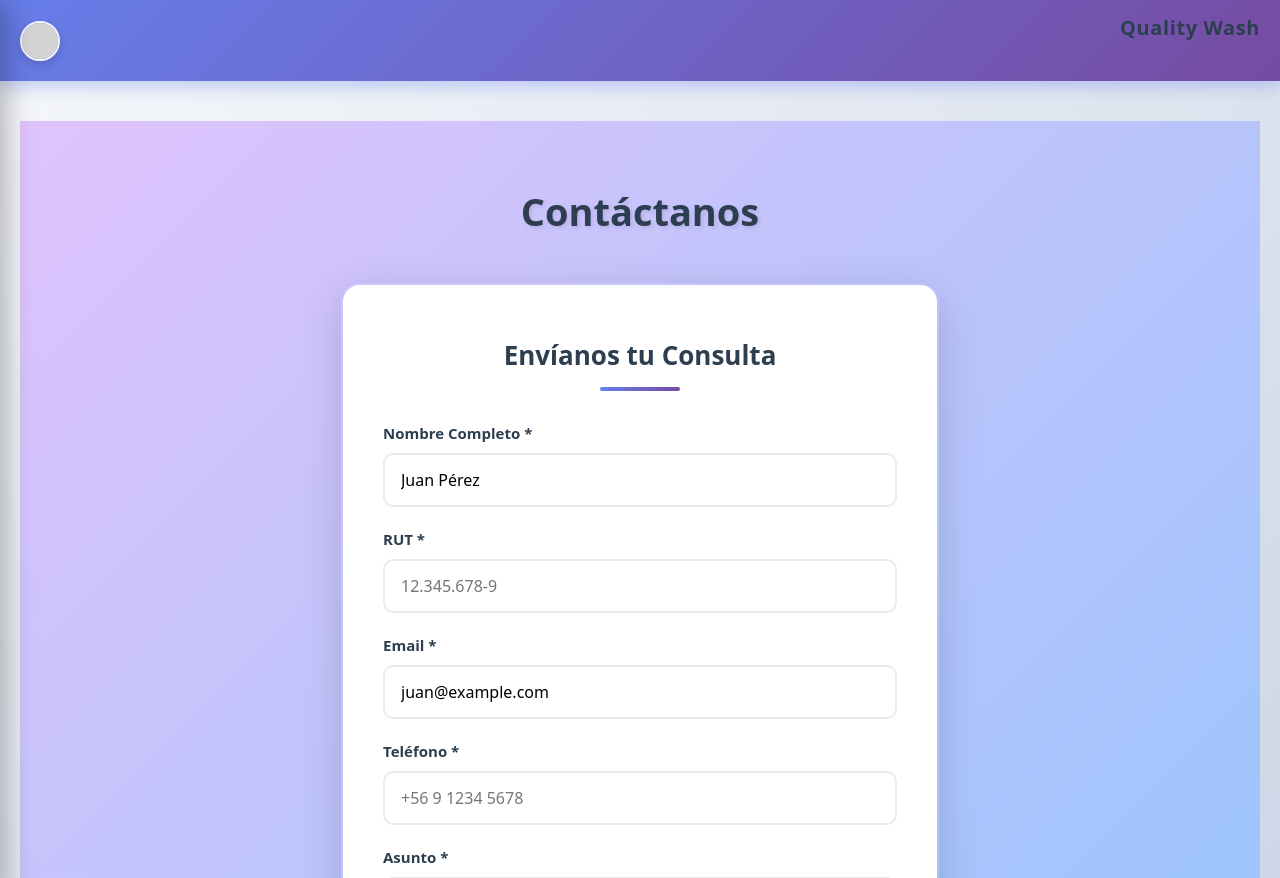
Contacto Component › Validación de campos vacíos › muestra error cuando el nombre está vacío
Clear the field labelled "Nombre Completo *" at (640, 480), box x1=383 y1=453 x2=897 y2=507
(page scrolled)
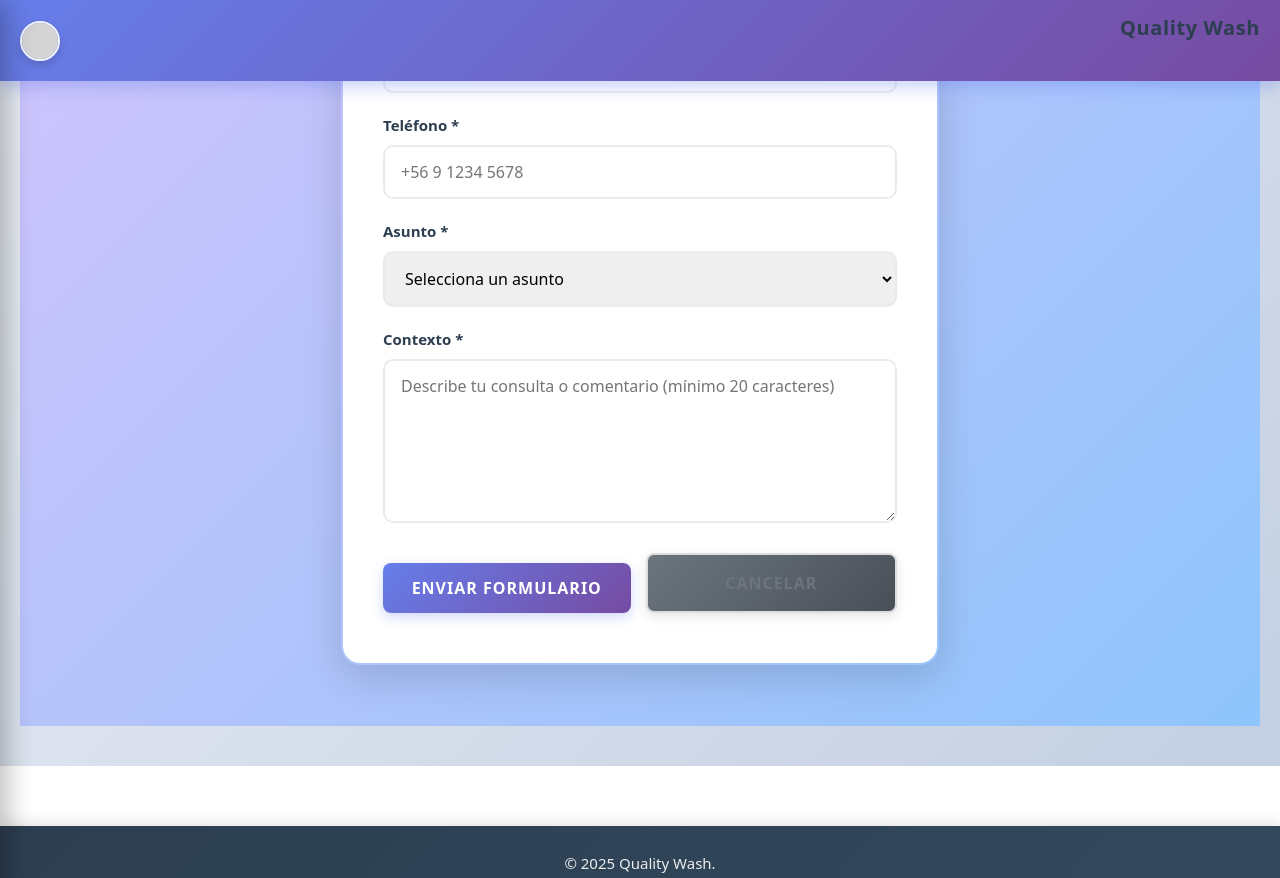
Click the button "Enviar Formulario" at (507, 588), box x1=383 y1=563 x2=630 y2=613
(page scrolled)
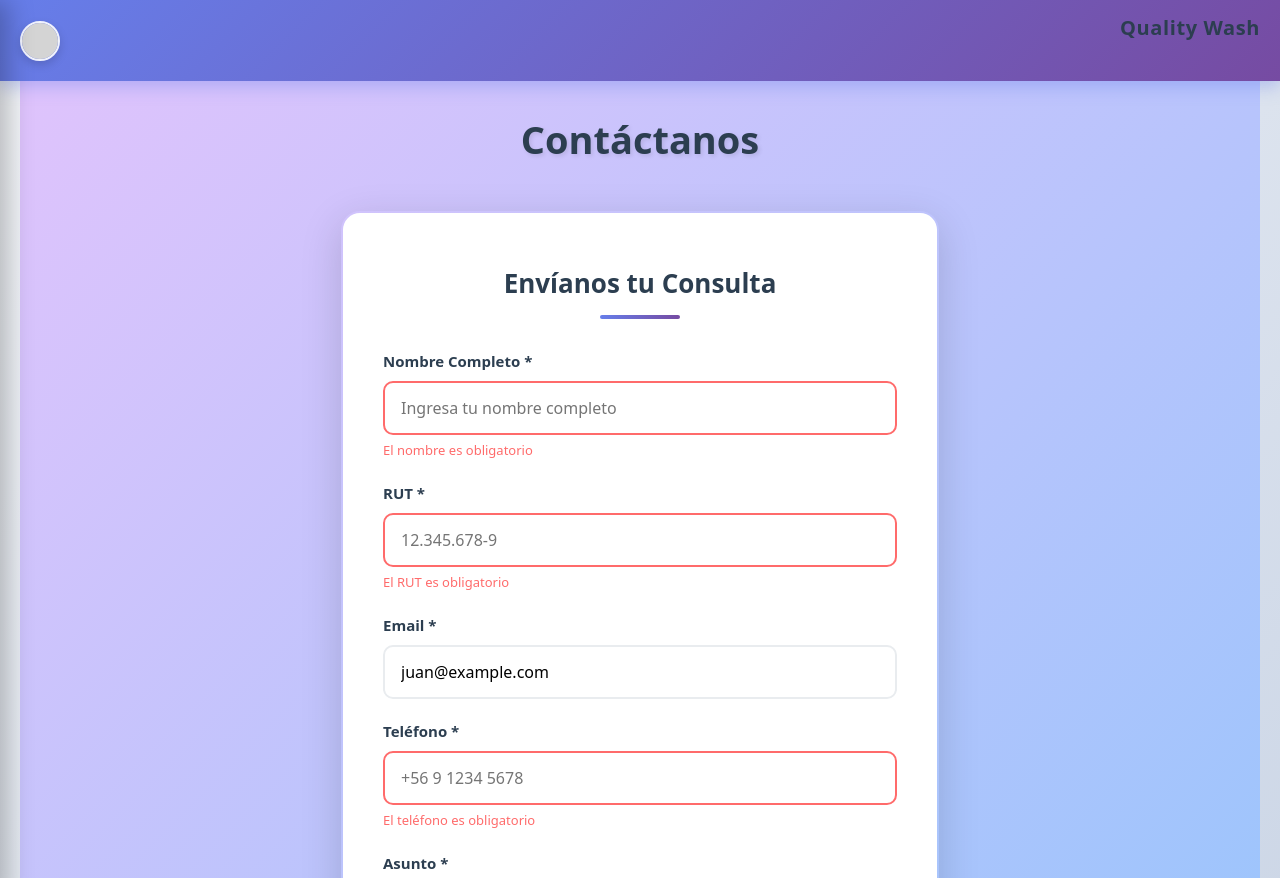
expect the text "El nombre es obligatorio" is shown: met, box x1=383 y1=441 x2=533 y2=459
